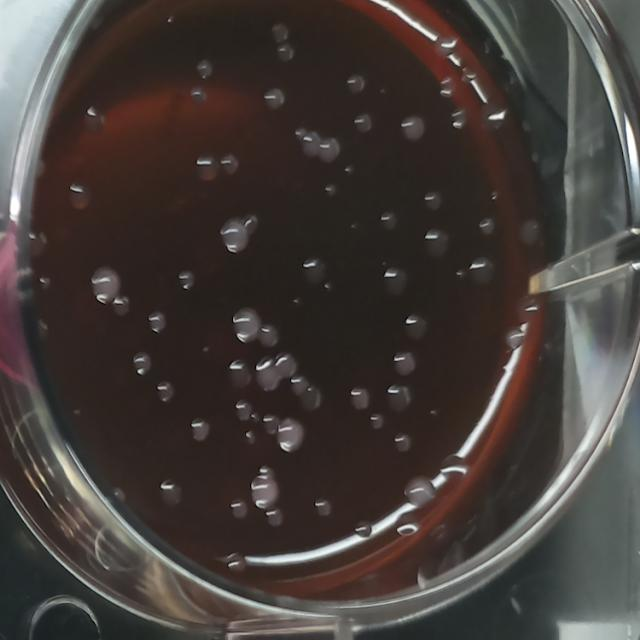Pseudoalteromonas: (382, 265, 411, 301)
Vibrio: (217, 217, 250, 256)
